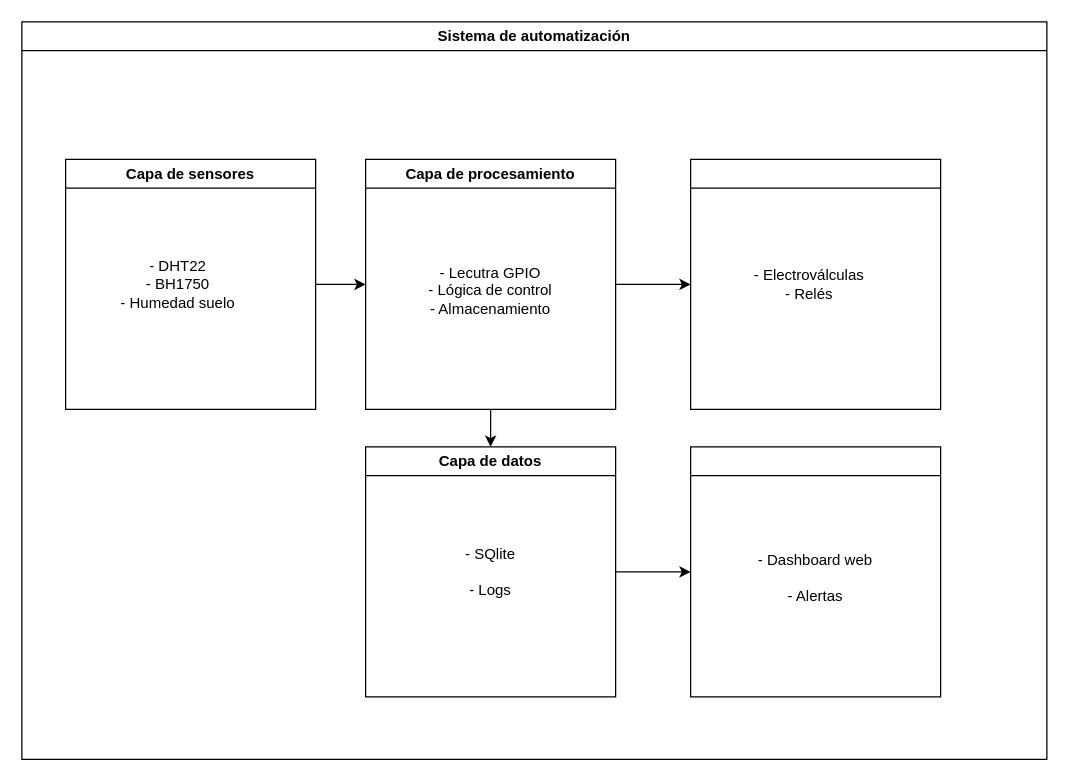
This 1069x781 diagram has some shape labels left out. Each missing label, with the box of its shape:
Capa de actuadores: (689, 158, 941, 409)
Capa de presentación: (689, 446, 941, 697)
